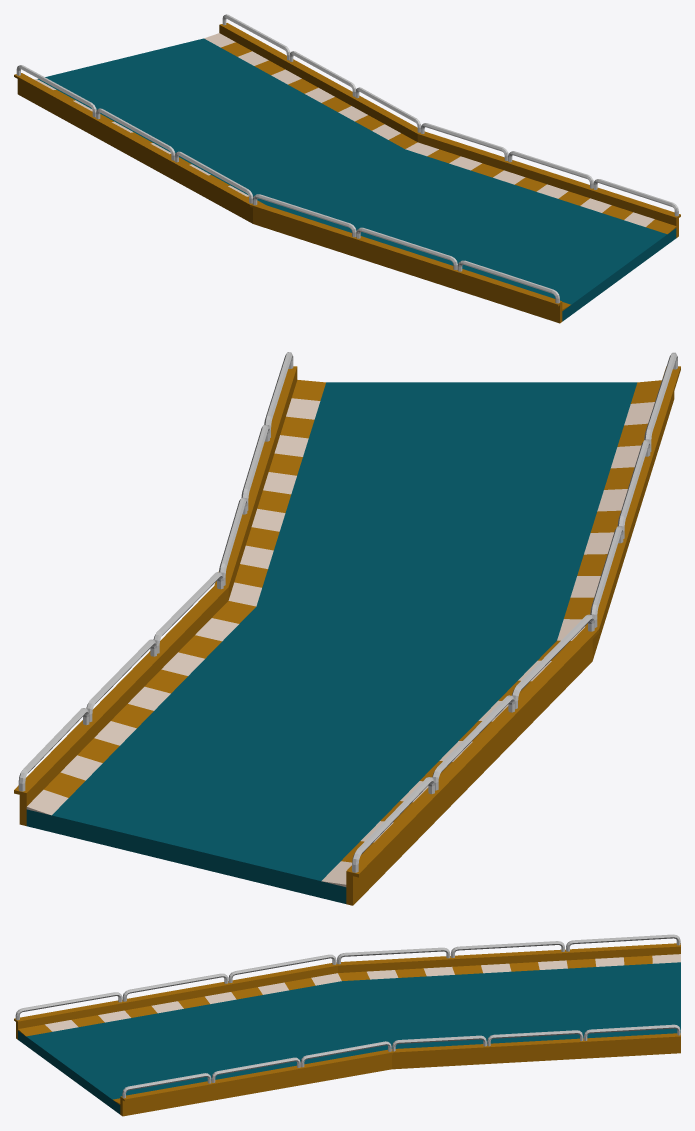
The model's file is curveLeft-30_l.FBX.
3 renders of one model, top to bottom at view 1: azimuth 30°, elevation 25°; view 2: azimuth 150°, elevation 25°; view 3: azimuth 270°, elevation 25°, orthographic. The views are drawn at different scales.
Visible parts, largest first — view 1: curveLeft-30_l, wall_r, wall_l, curbs_l, curbs_r; view 2: curveLeft-30_l, wall_r, curbs_l, wall_l, curbs_r; view 3: curveLeft-30_l, wall_l, wall_r, curbs_r.
Boxes of the visible parts, bbox=[...] form: curveLeft-30_l: bbox=[37, 38, 676, 321]; wall_r: bbox=[14, 65, 562, 323]; wall_l: bbox=[219, 14, 680, 237]; curbs_l: bbox=[204, 33, 676, 234]; curbs_r: bbox=[34, 79, 570, 310]; curveLeft-30_l: bbox=[26, 382, 637, 903]; wall_r: bbox=[346, 352, 680, 905]; curbs_l: bbox=[26, 380, 325, 815]; wall_l: bbox=[14, 352, 297, 825]; curbs_r: bbox=[321, 380, 661, 886]; curveLeft-30_l: bbox=[18, 962, 680, 1114]; wall_l: bbox=[120, 1024, 680, 1116]; wall_r: bbox=[14, 934, 680, 1039]; curbs_r: bbox=[18, 954, 680, 1036].
Size of what is drawn, in the model's own units: 347 by 29.31 by 625.
